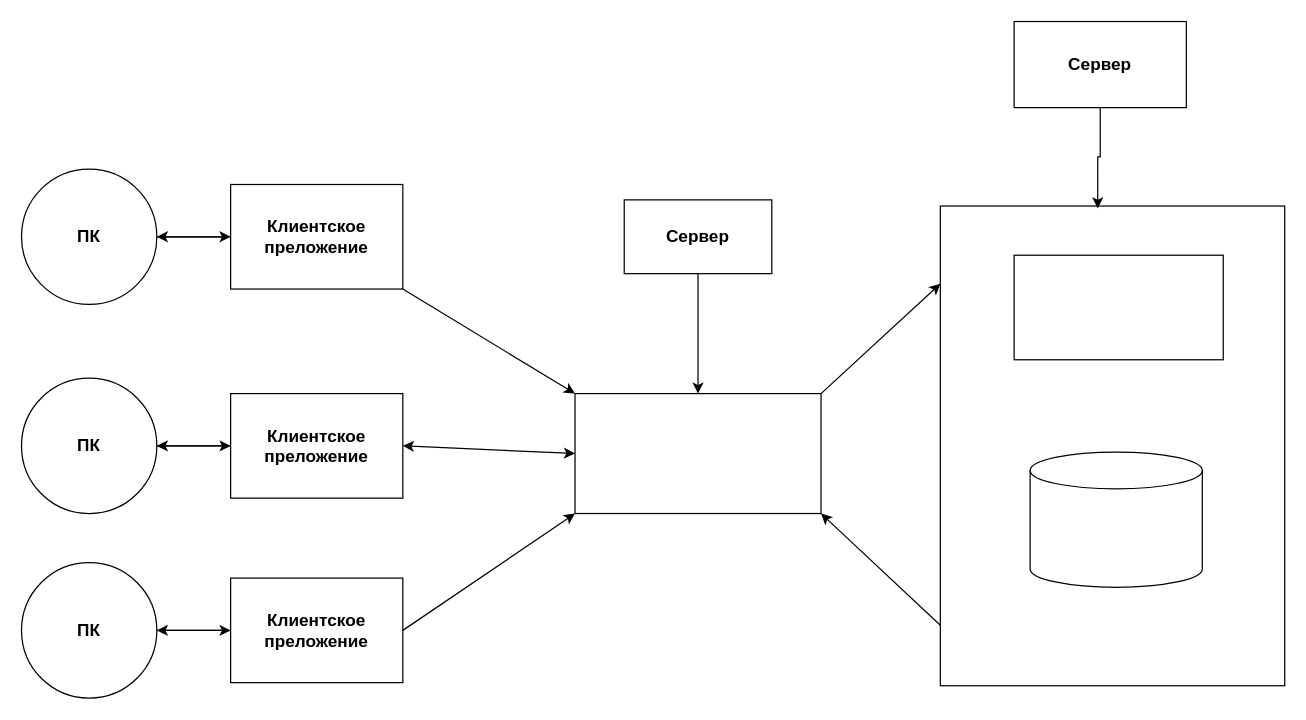
This 1306x720 diagram has some shape labels left out. Each missing label, with the centre of its shape:
Все данные: (x=1115, y=519)
Предложение сервера(бизнес-лагика): (x=697, y=453)
СУБД: (x=1118, y=307)
